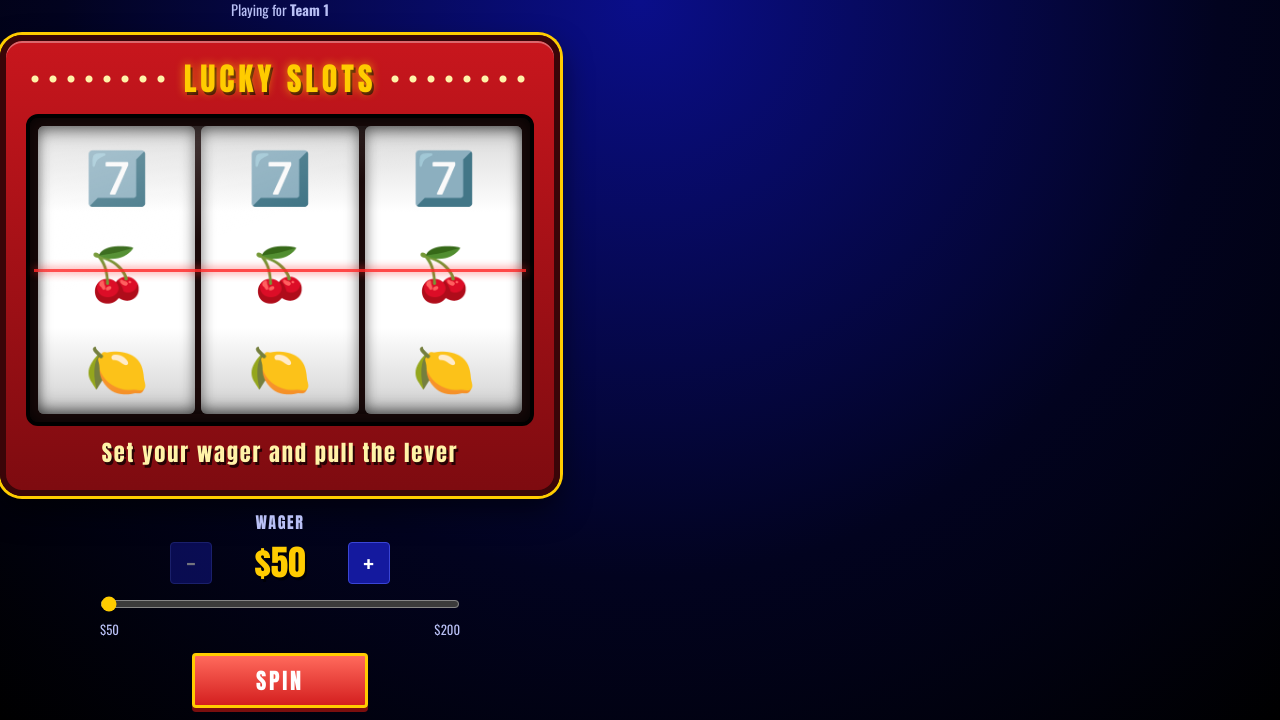
Test: SlotsGame › shows the pay table scaled to the wager
Click the button named "Raise wager" at (369, 563), box left=348, top=542, right=390, bottom=584
(page scrolled)
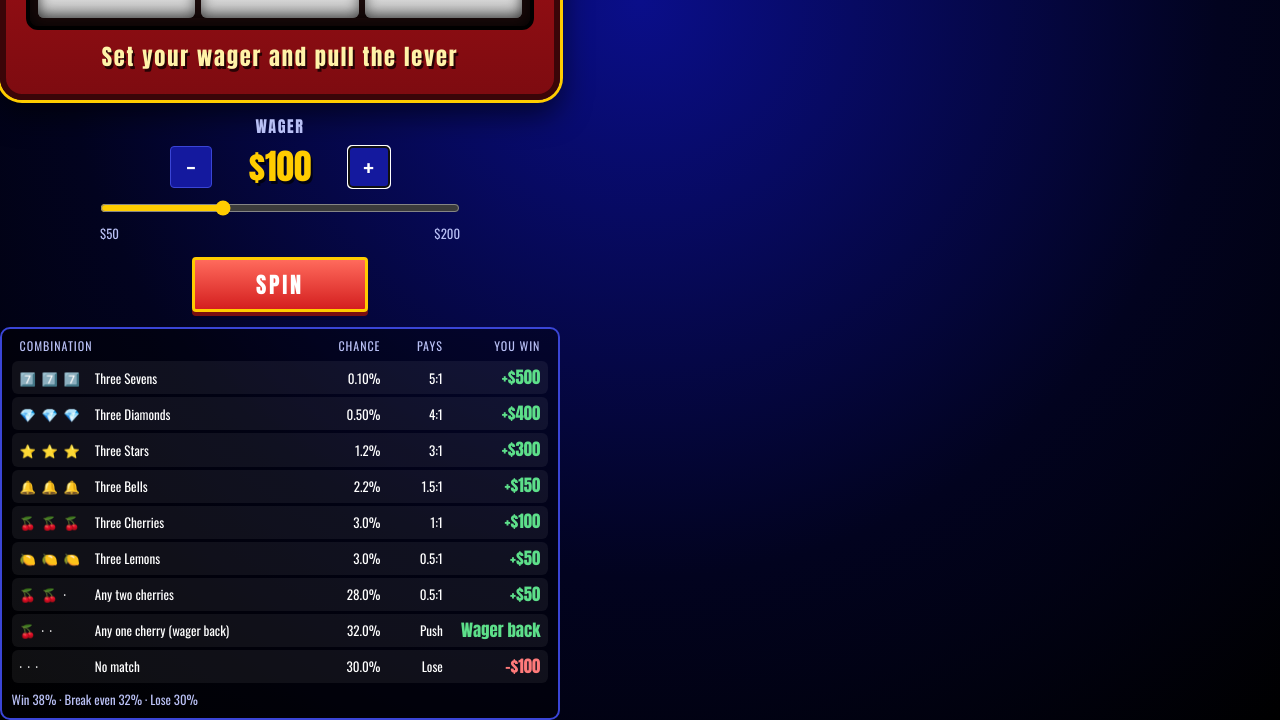
Result: the element named "Pay table" shows "+$500" at left=502, top=364, right=540, bottom=390
